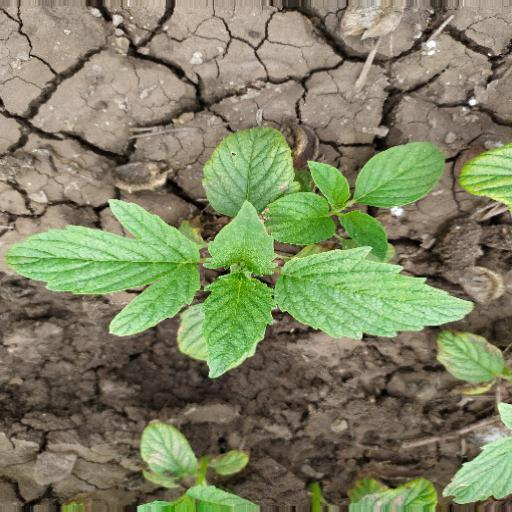crop: (19, 126, 478, 372)
